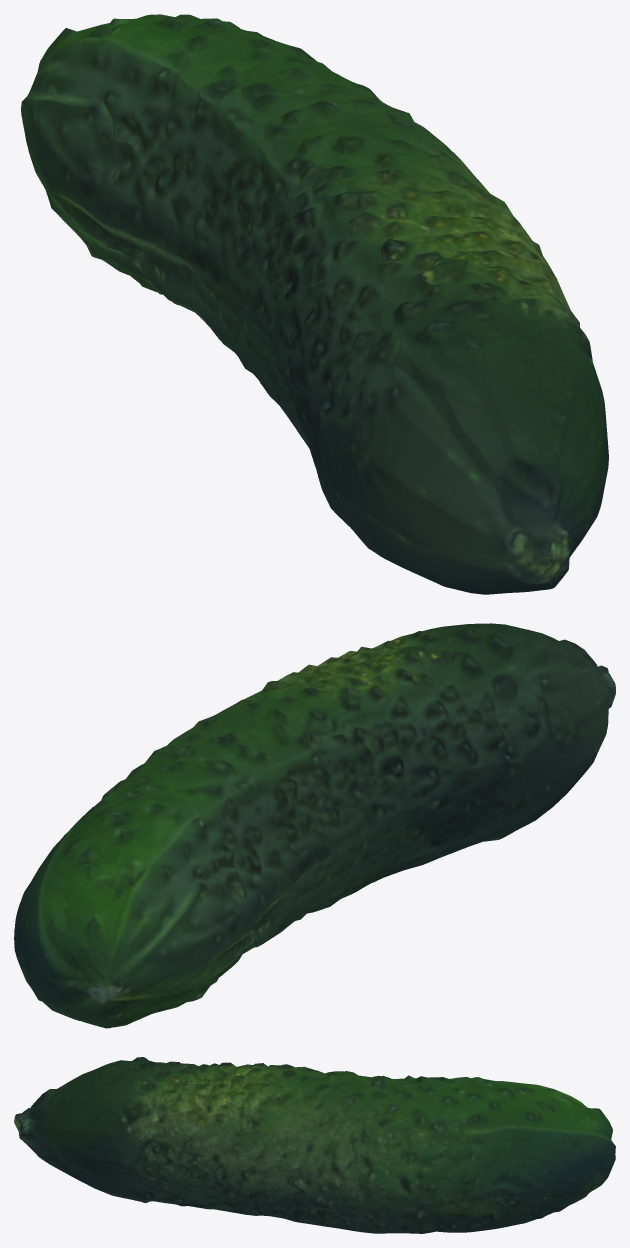
File: obj09_baseline.glb
The picture shows the model from 3 angles, top to bottom: view 1: azimuth 30°, elevation 25°; view 2: azimuth 150°, elevation 25°; view 3: azimuth 270°, elevation 25°; orthographic projection. The views are drawn at different scales.
Visible parts, largest first — view 1: n1; view 2: n1; view 3: n1.
Part boxes in pixels (<box>): n1: <box>21,14,608,594</box>; n1: <box>14,623,615,1028</box>; n1: <box>14,1057,615,1233</box>.
Bounding box in the file's own units: 0.316 × 0.2321 × 0.9018.
